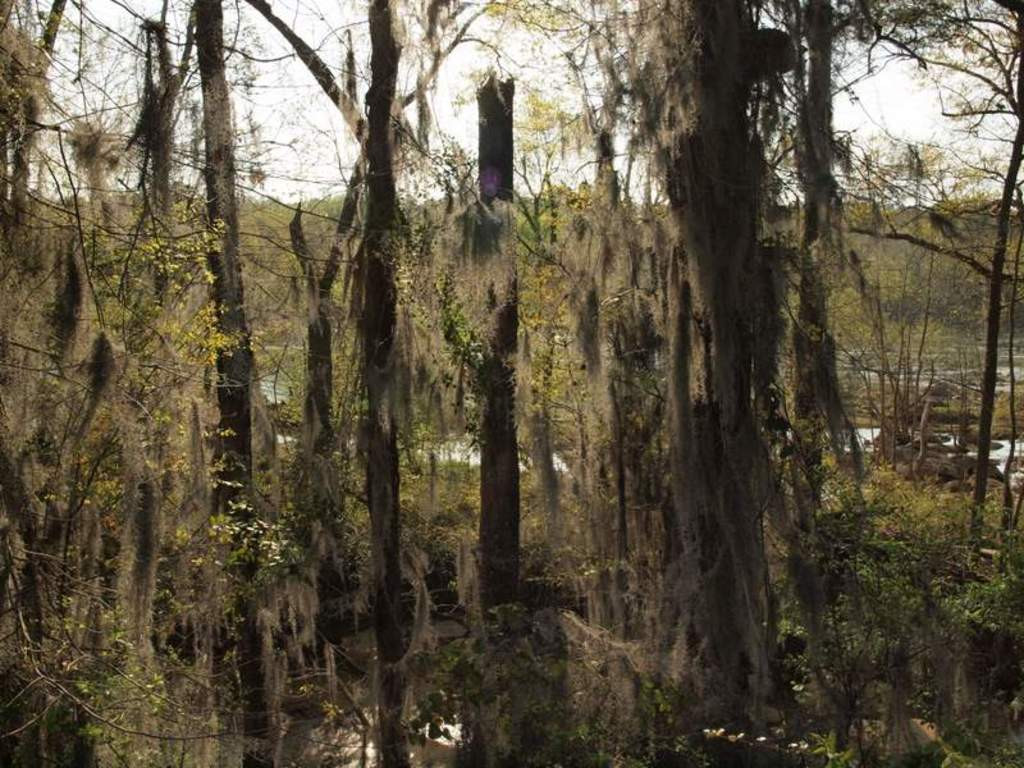Tree: (0, 0, 1022, 765), (42, 96, 336, 677)
